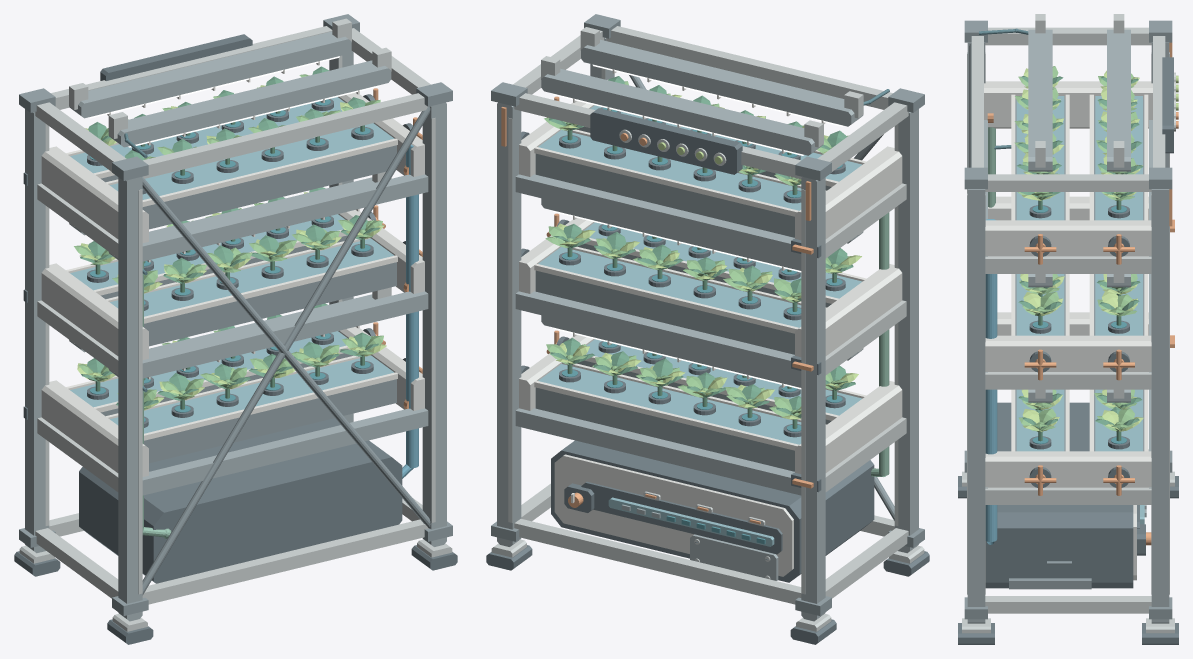
File: grow_tray_martian_hailmary.glb
3 views of the same model, side by side, from view 1: azimuth 30°, elevation 25°; view 2: azimuth 150°, elevation 25°; view 3: azimuth 270°, elevation 25° (orthographic).
Parts seen in each view (by area): view 1: Static__frame, Static__graphite, Static__steel, Static__castiron, Static__blue_plastic, Static__bone, Static__offwhite, Static__water_line, Tier_1_Harvest_Crops__green_deep, Tier_2_Harvest_Crops__green_deep, Static__wet, Tier_2_Harvest_Crops__green (+6 smaller); view 2: Static__frame, Static__steel, Static__graphite, Static__bone, Static__castiron, Static__blue_plastic, Static__offwhite, Tier_1_Harvest_Crops__green_deep, Tier_2_Harvest_Crops__green_deep, Static__wet, Reservoir_Access__frame, Tier_2_Harvest_Crops__green (+8 smaller); view 3: Static__frame, Static__steel, Static__bone, Static__graphite, Static__blue_plastic, Static__castiron, Static__offwhite, Static__water_line, Tier_3_Harvest_Crops__green, Tier_3_Harvest_Crops__green_deep, Tier_1_Harvest_Crops__green, Tier_2_Harvest_Crops__green (+11 smaller).
Part boxes in pixels (bbox=[...]): Static__frame: bbox=[25, 31, 446, 621]; Static__graphite: bbox=[14, 34, 457, 644]; Static__steel: bbox=[19, 18, 452, 631]; Static__castiron: bbox=[19, 14, 452, 615]; Static__blue_plastic: bbox=[70, 97, 393, 433]; Static__bone: bbox=[41, 92, 424, 476]; Static__offwhite: bbox=[66, 61, 397, 440]; Static__water_line: bbox=[402, 144, 418, 478]; Tier_1_Harvest_Crops__green_deep: bbox=[81, 303, 378, 409]; Tier_2_Harvest_Crops__green_deep: bbox=[80, 187, 380, 292]; Static__wet: bbox=[90, 99, 370, 421]; Tier_2_Harvest_Crops__green: bbox=[74, 203, 382, 291]; Static__frame: bbox=[497, 37, 918, 621]; Static__steel: bbox=[491, 26, 924, 631]; Static__graphite: bbox=[486, 107, 929, 644]; Static__bone: bbox=[519, 80, 902, 576]; Static__castiron: bbox=[491, 14, 924, 615]; Static__blue_plastic: bbox=[538, 105, 862, 444]; Static__offwhite: bbox=[534, 69, 866, 450]; Tier_1_Harvest_Crops__green_deep: bbox=[550, 338, 855, 428]; Tier_2_Harvest_Crops__green_deep: bbox=[553, 224, 853, 311]; Static__wet: bbox=[562, 107, 842, 431]; Reservoir_Access__frame: bbox=[690, 534, 778, 580]; Tier_2_Harvest_Crops__green: bbox=[545, 226, 851, 302]; Static__frame: bbox=[967, 29, 1169, 623]; Static__steel: bbox=[962, 14, 1175, 633]; Static__bone: bbox=[984, 81, 1152, 580]; Static__graphite: bbox=[958, 57, 1178, 644]; Static__blue_plastic: bbox=[1016, 96, 1142, 451]; Static__castiron: bbox=[964, 20, 1172, 619]; Static__offwhite: bbox=[1011, 94, 1148, 451]; Static__water_line: bbox=[985, 219, 997, 544]; Tier_3_Harvest_Crops__green: bbox=[1014, 66, 1137, 200]; Tier_3_Harvest_Crops__green_deep: bbox=[1017, 75, 1143, 209]; Tier_1_Harvest_Crops__green: bbox=[1019, 389, 1136, 431]; Tier_2_Harvest_Crops__green: bbox=[1019, 274, 1137, 316].
Bounding box in the file's own units: 1.47 × 2.07 × 0.852.
